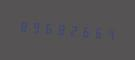eight: (17, 15, 28, 36), (53, 18, 64, 39)
four: (101, 23, 112, 43)
nine: (29, 16, 40, 37)
six: (41, 17, 52, 38), (77, 20, 88, 41), (89, 21, 100, 42)
two: (65, 19, 76, 40)
